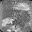people: (1, 17, 14, 27)
